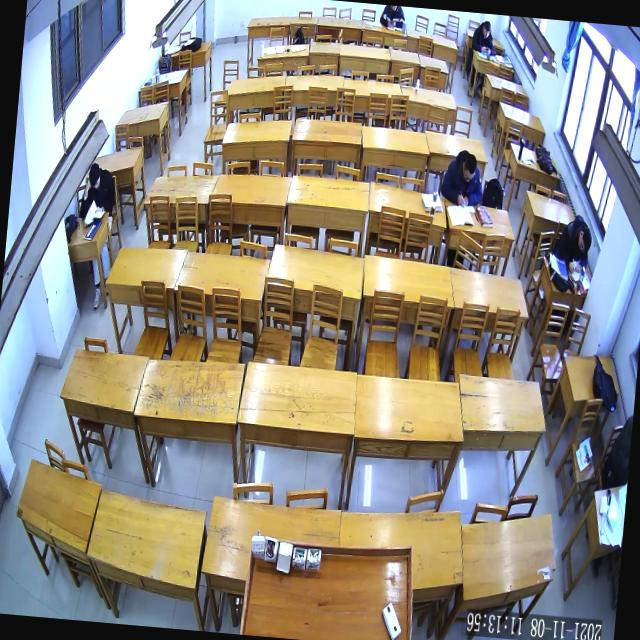down: (459, 151, 478, 185), (86, 160, 102, 192), (576, 226, 592, 256), (481, 20, 492, 40)
sit: (437, 146, 487, 210), (550, 211, 594, 276), (77, 160, 119, 223), (470, 18, 498, 56)
